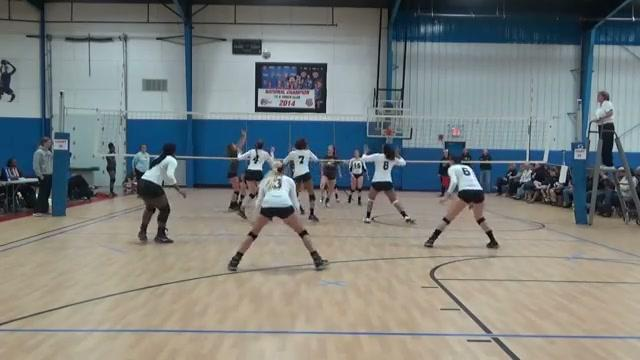ball: (262, 50, 271, 59)
